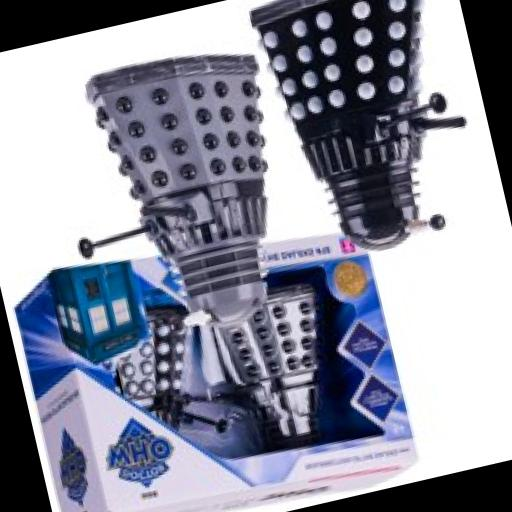dalek: (31, 38, 315, 360), (246, 0, 493, 266), (212, 276, 357, 464), (102, 304, 234, 460)
